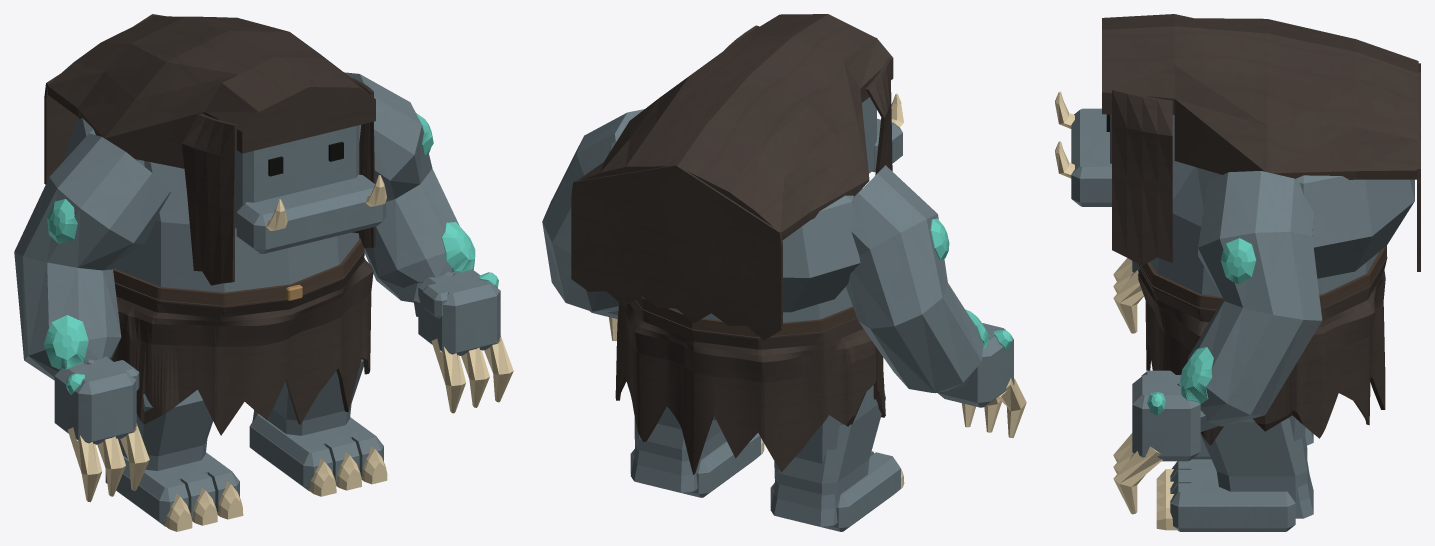
The model's file is host_08.glb.
3 renders of one model, left to right at view 1: azimuth 30°, elevation 25°; view 2: azimuth 150°, elevation 25°; view 3: azimuth 270°, elevation 25°, orthographic. The views are drawn at different scales.
Parts seen in each view (by area): view 1: Body — continuous source torso, four joints and planted legs, Hood — continuous roof and two source side drapes, Clothing — broad source ragged leather skirt, Head — complete continuous skull and neck, Hand — LEFT connected source fist and wrist, Hand — RIGHT connected source fist and wrist, Clothing — fitted thin leather waist belt, Regeneration — angular forearm crystal.002, Regeneration — angular forearm crystal, Shadowblood source — LEFT broad curved ivory claw 1, Shadowblood source — RIGHT broad curved ivory claw 1, Regeneration — angular forearm crystal.003 (+10 smaller); view 2: Hood — continuous roof and two source side drapes, Body — continuous source torso, four joints and planted legs, Clothing — broad source ragged leather skirt, Hand — RIGHT connected source fist and wrist, Clothing — fitted thin leather waist belt, Head — complete continuous skull and neck, Shadowblood source — RIGHT broad curved ivory claw 1; view 3: Hood — continuous roof and two source side drapes, Body — continuous source torso, four joints and planted legs, Clothing — broad source ragged leather skirt, Hand — LEFT connected source fist and wrist, Head — complete continuous skull and neck, Clothing — fitted thin leather waist belt, Shadowblood source — LEFT broad curved ivory claw -1, Regeneration — angular forearm crystal, Regeneration — angular forearm crystal.001, Shadowblood source — RIGHT broad curved ivory claw -1, Foot — broad source ivory claw -1 -1.
Part boxes in pixels (bbox=[...]): Body — continuous source torso, four joints and planted legs: bbox=[14, 72, 459, 526]; Hood — continuous roof and two source side drapes: bbox=[44, 14, 375, 285]; Clothing — broad source ragged leather skirt: bbox=[111, 249, 373, 435]; Head — complete continuous skull and neck: bbox=[235, 125, 386, 253]; Hand — LEFT connected source fist and wrist: bbox=[413, 269, 500, 355]; Hand — RIGHT connected source fist and wrist: bbox=[54, 356, 139, 444]; Clothing — fitted thin leather waist belt: bbox=[113, 235, 364, 305]; Regeneration — angular forearm crystal.002: bbox=[44, 315, 88, 369]; Regeneration — angular forearm crystal: bbox=[441, 222, 475, 272]; Shadowblood source — LEFT broad curved ivory claw 1: bbox=[431, 338, 465, 413]; Shadowblood source — RIGHT broad curved ivory claw 1: bbox=[67, 427, 102, 502]; Regeneration — angular forearm crystal.003: bbox=[47, 199, 77, 243]; Hood — continuous roof and two source side drapes: bbox=[571, 14, 893, 340]; Body — continuous source torso, four joints and planted legs: bbox=[542, 109, 983, 531]; Clothing — broad source ragged leather skirt: bbox=[615, 300, 885, 474]; Hand — RIGHT connected source fist and wrist: bbox=[938, 323, 1013, 407]; Clothing — fitted thin leather waist belt: bbox=[635, 296, 856, 337]; Head — complete continuous skull and neck: bbox=[862, 97, 902, 173]; Shadowblood source — RIGHT broad curved ivory claw 1: bbox=[997, 378, 1026, 437]; Hood — continuous roof and two source side drapes: bbox=[1102, 14, 1420, 271]; Body — continuous source torso, four joints and planted legs: bbox=[1150, 166, 1414, 531]; Clothing — broad source ragged leather skirt: bbox=[1138, 257, 1387, 445]; Hand — LEFT connected source fist and wrist: bbox=[1132, 370, 1217, 461]; Head — complete continuous skull and neck: bbox=[1071, 108, 1193, 206]; Clothing — fitted thin leather waist belt: bbox=[1141, 245, 1386, 309]; Shadowblood source — LEFT broad curved ivory claw -1: bbox=[1113, 446, 1162, 514]; Regeneration — angular forearm crystal: bbox=[1180, 347, 1213, 403]; Regeneration — angular forearm crystal.001: bbox=[1220, 238, 1256, 284]; Shadowblood source — RIGHT broad curved ivory claw -1: bbox=[1113, 270, 1143, 333]; Foot — broad source ivory claw -1 -1: bbox=[1156, 494, 1178, 530].
Size of the model in its own units: 3.4 by 3.3 by 2.41.
7 materials, 5 textured.
